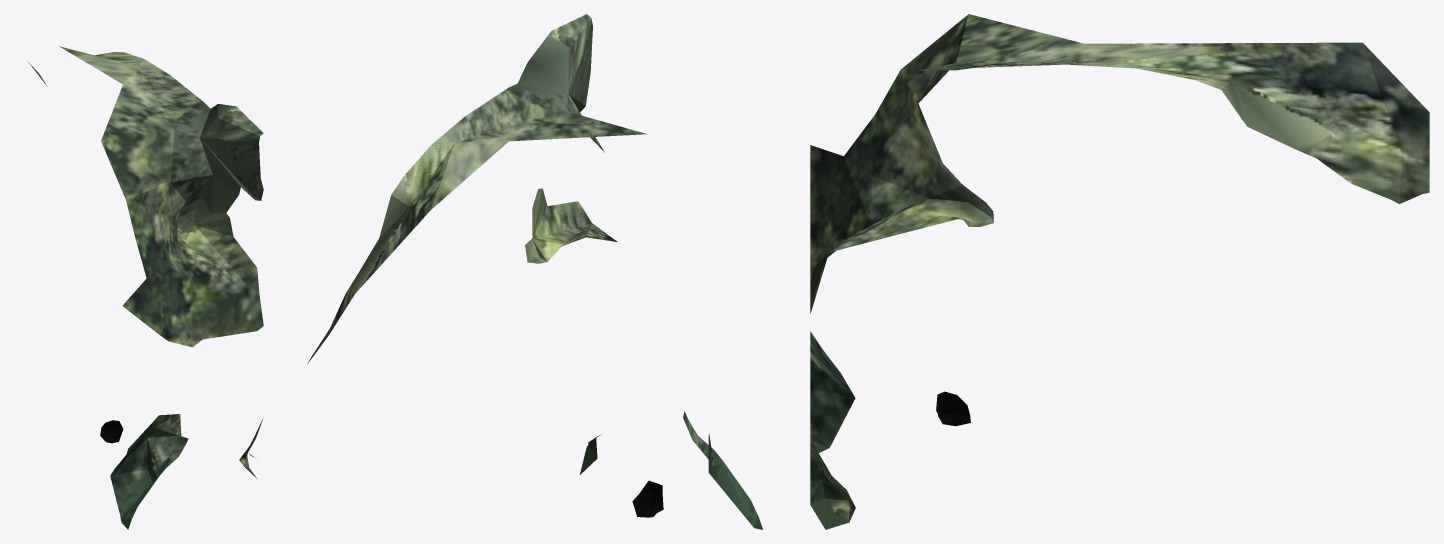
The picture shows the model from 3 angles, left to right: view 1: azimuth 30°, elevation 25°; view 2: azimuth 150°, elevation 25°; view 3: azimuth 270°, elevation 25°; orthographic projection. The views are drawn at different scales.
Size of the model in its own units: 9.98 by 23.57 by 26.11.
Materials: 1 (1 with a texture image).
